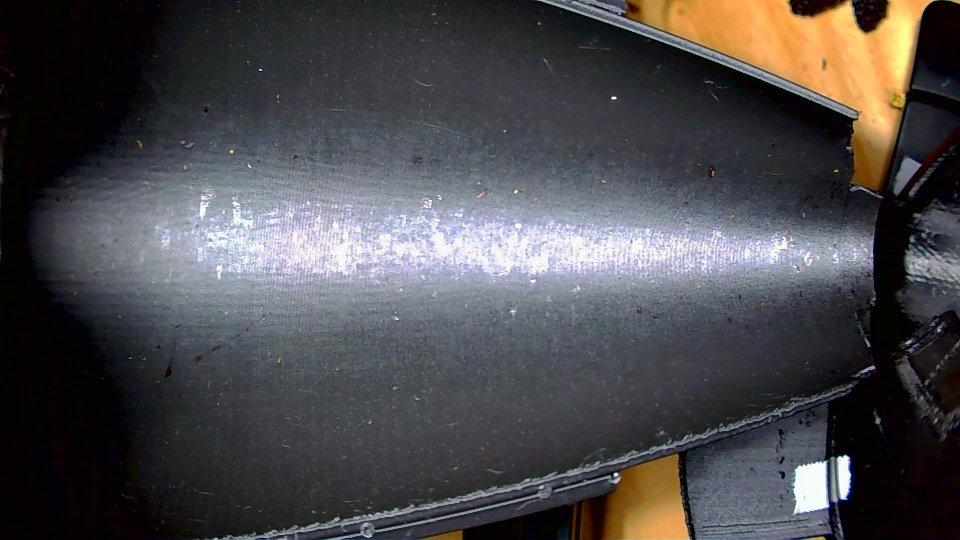berry: (851, 0, 888, 31), (789, 0, 845, 16)
